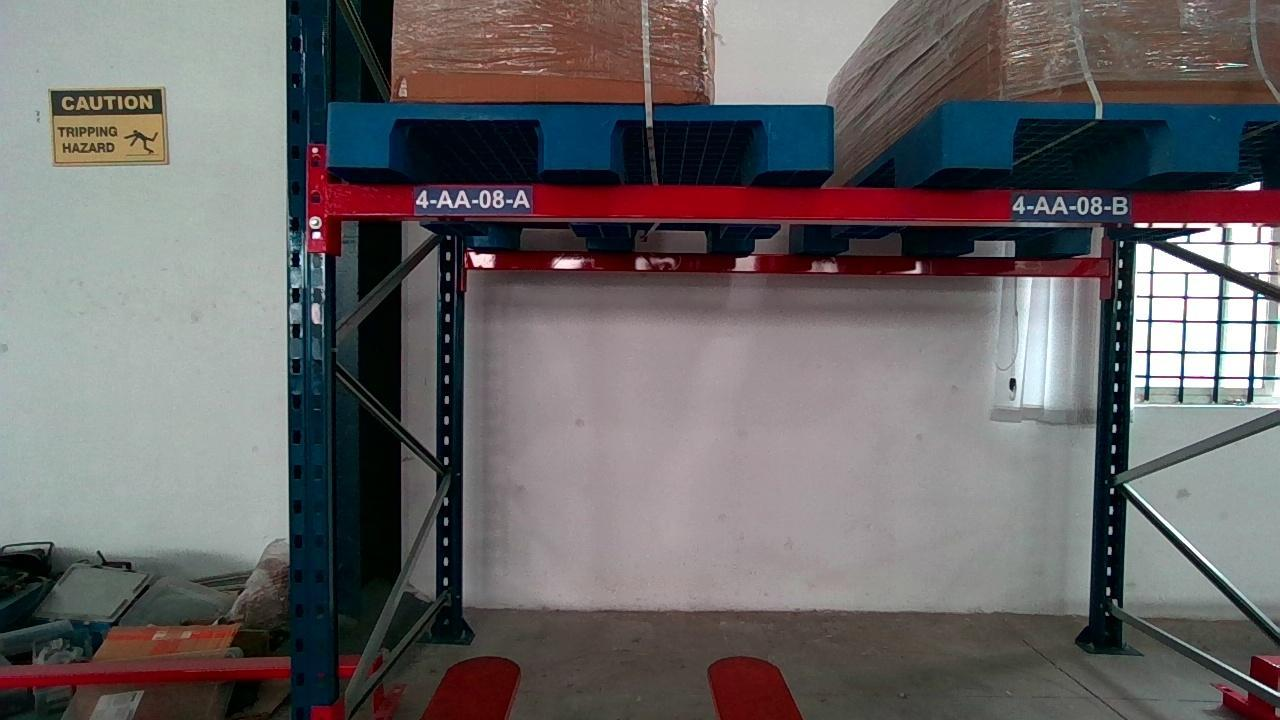h_rack: (321, 179, 1280, 220)
small_pallet: (332, 102, 833, 161), (944, 97, 1280, 171)
